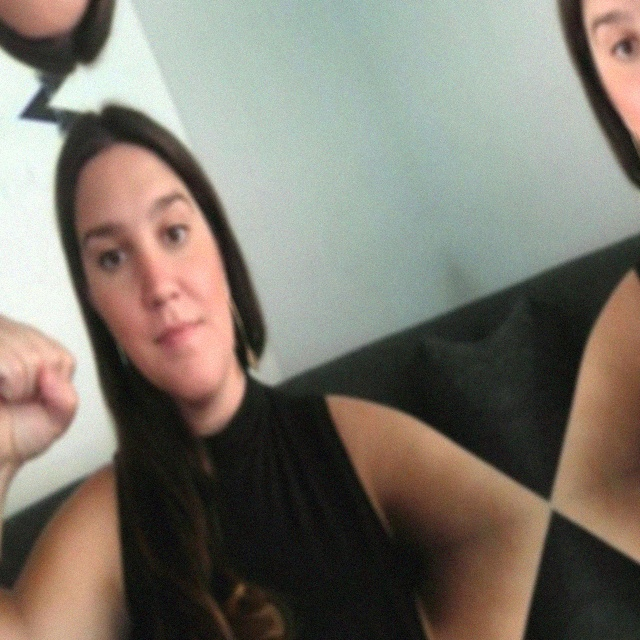Rock: (0, 282, 112, 481)
